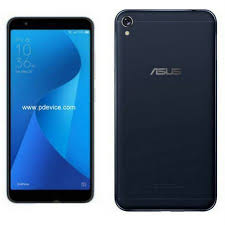asus: (109, 5, 220, 215), (3, 14, 98, 207)
